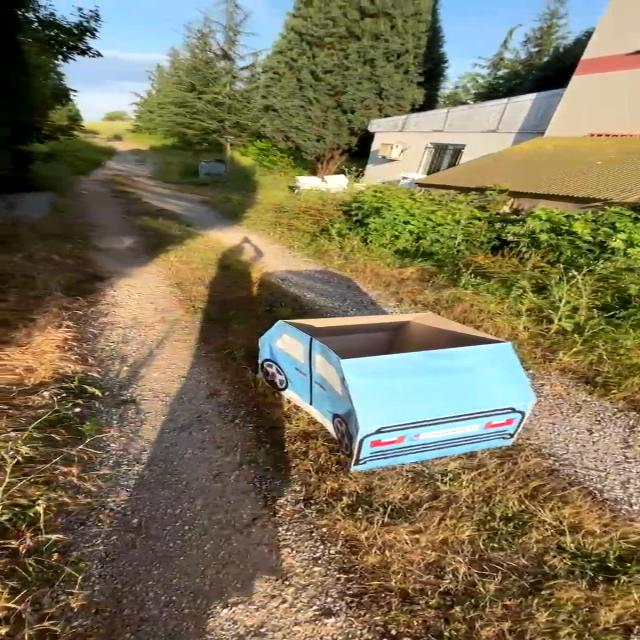blue_car: (212, 302, 563, 486)
